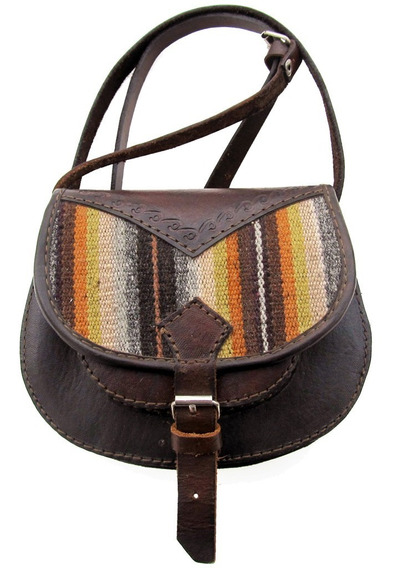cartera: (19, 3, 373, 475)
